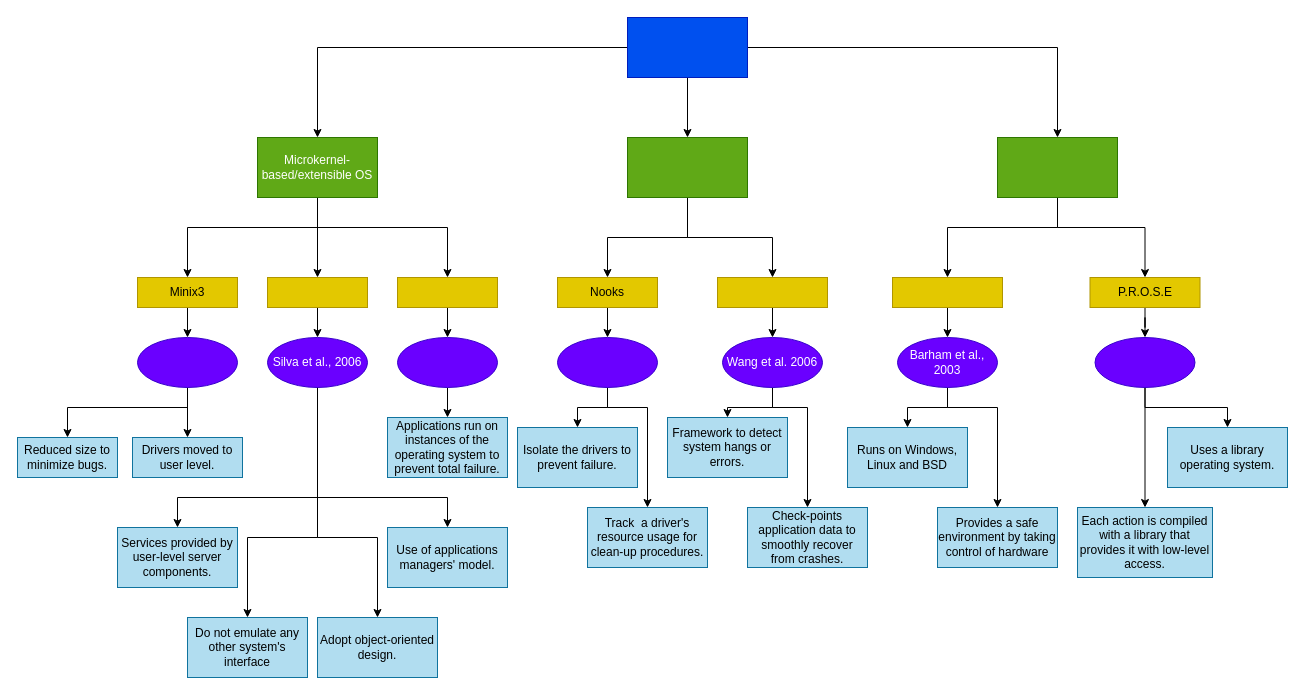
This 1305x695 diagram has some shape labels left out. The shapes that lost their labels are listed below. From the top down, each one's centre as x and y in pixels, then its label:
point (687, 47): Reliable Operating Systems
point (687, 167): Fault containment
point (1057, 167): Virtualization
point (317, 292): K42
point (447, 292): Hive
point (772, 292): Reliability MicroKernel (RMK)
point (947, 292): Xen
point (187, 362): (Herder et al. , 2006)
point (447, 362): Chapin, 1997
point (607, 362): Swift et al., 2005
point (1144, 362): Hensbergen, 2006
